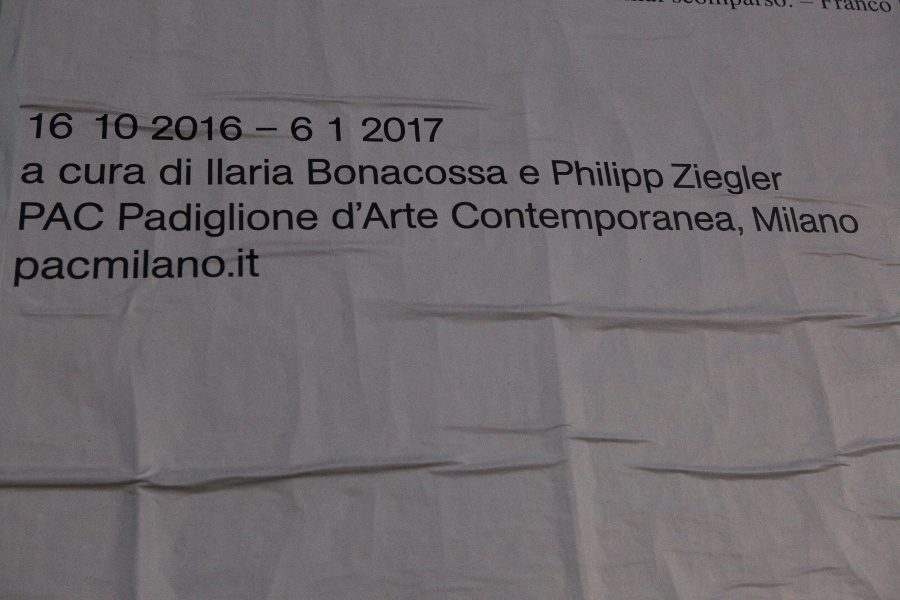text: (17, 248, 32, 289), (33, 248, 48, 289), (49, 248, 64, 289), (65, 248, 80, 289), (81, 248, 96, 289), (97, 248, 112, 289), (113, 248, 128, 289), (129, 248, 144, 289), (145, 248, 160, 289), (161, 248, 176, 289), (177, 248, 192, 289), (193, 248, 208, 289), (209, 248, 224, 289), (225, 248, 240, 289), (241, 248, 256, 289), (129, 202, 144, 241), (145, 202, 160, 241), (161, 202, 176, 241), (177, 202, 192, 241), (193, 202, 208, 241), (209, 202, 224, 241), (225, 202, 240, 241), (241, 202, 256, 241), (257, 202, 272, 241), (273, 202, 288, 241), (289, 202, 304, 241), (305, 202, 320, 241), (465, 202, 480, 241), (481, 202, 496, 241), (497, 202, 512, 241), (513, 202, 528, 241), (529, 202, 544, 241), (545, 202, 560, 241), (561, 202, 576, 241), (577, 202, 592, 241), (593, 202, 608, 241), (609, 202, 624, 241), (625, 202, 640, 241), (641, 202, 656, 241), (657, 202, 672, 241), (673, 202, 688, 241), (689, 202, 704, 241), (705, 202, 720, 241), (721, 202, 736, 241), (561, 159, 576, 196), (577, 159, 592, 196), (593, 159, 608, 196), (609, 159, 624, 196), (625, 159, 640, 196), (641, 159, 656, 196), (33, 201, 48, 235), (49, 201, 64, 235), (65, 201, 80, 235), (81, 201, 96, 235), (451, 202, 464, 241), (737, 202, 750, 241), (177, 157, 193, 188), (33, 110, 48, 143), (49, 110, 64, 143), (673, 163, 688, 196), (689, 163, 704, 196), (705, 163, 720, 196), (721, 163, 736, 196), (737, 163, 752, 196), (753, 163, 768, 196), (769, 163, 784, 196), (337, 201, 352, 233), (353, 201, 368, 233), (369, 201, 384, 233), (385, 201, 400, 233), (401, 201, 416, 233), (417, 201, 432, 233), (161, 157, 176, 188), (753, 205, 768, 236), (769, 205, 784, 236), (785, 205, 800, 236), (801, 205, 816, 236), (817, 205, 832, 236), (833, 205, 848, 236), (849, 205, 864, 236), (97, 112, 112, 142), (113, 112, 128, 142), (209, 158, 224, 187), (225, 158, 240, 187), (241, 158, 256, 187), (257, 158, 272, 187), (273, 158, 288, 187), (321, 158, 336, 187), (337, 158, 352, 187), (353, 158, 368, 187), (369, 158, 384, 187), (385, 158, 400, 187), (401, 158, 416, 187), (417, 158, 432, 187), (433, 158, 448, 187), (449, 158, 464, 187), (465, 158, 480, 187), (481, 158, 496, 187), (161, 115, 176, 143), (177, 115, 192, 143), (193, 115, 208, 143), (209, 115, 224, 143), (225, 115, 240, 143), (20, 201, 32, 235), (497, 158, 511, 187), (369, 118, 384, 144), (385, 118, 400, 144), (401, 118, 416, 144), (417, 118, 432, 144), (550, 159, 560, 196), (657, 159, 667, 196), (291, 115, 304, 143), (65, 110, 76, 143), (65, 163, 80, 187), (81, 163, 96, 187), (97, 163, 112, 187), (113, 163, 128, 187), (129, 163, 144, 187), (308, 158, 320, 187), (433, 118, 446, 144), (129, 112, 140, 142), (529, 164, 544, 186), (33, 162, 46, 187), (120, 202, 128, 241), (97, 201, 106, 235), (305, 115, 314, 143), (22, 162, 32, 187), (257, 248, 263, 289), (152, 115, 160, 143), (360, 118, 368, 144), (519, 164, 528, 186), (329, 116, 336, 144), (833, 1, 848, 14), (849, 1, 864, 14), (865, 1, 880, 14), (881, 1, 896, 14), (433, 201, 439, 233), (641, 1, 656, 13), (657, 1, 672, 13), (673, 1, 688, 13), (689, 1, 704, 13), (705, 1, 720, 13), (721, 1, 736, 13), (737, 1, 752, 13), (753, 1, 768, 13), (769, 1, 784, 13), (289, 158, 295, 187), (337, 116, 343, 144), (822, 1, 832, 14), (59, 163, 64, 187), (785, 1, 794, 13), (257, 127, 272, 134), (145, 163, 149, 187), (333, 201, 336, 233), (241, 115, 244, 143), (634, 1, 640, 13), (30, 110, 32, 143), (670, 163, 672, 196), (785, 163, 787, 196), (801, 1, 816, 5), (206, 158, 208, 187), (15, 248, 16, 289), (273, 127, 278, 134), (751, 205, 752, 236), (255, 127, 256, 134)
